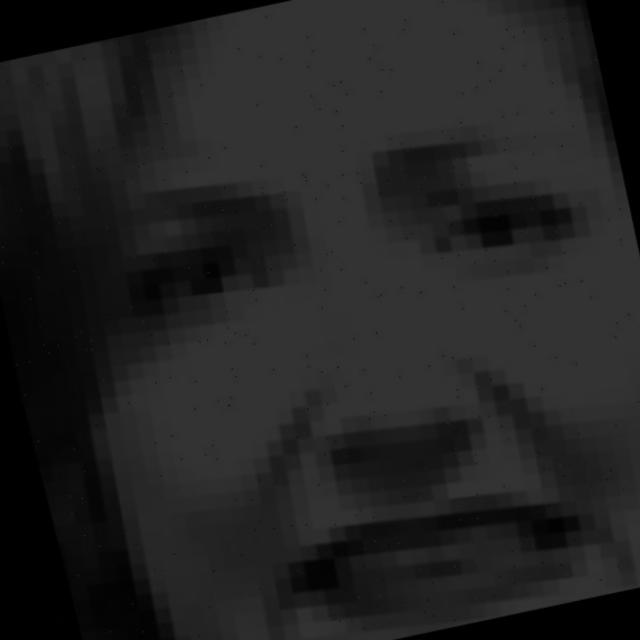Disgust: (63, 99, 625, 609)
